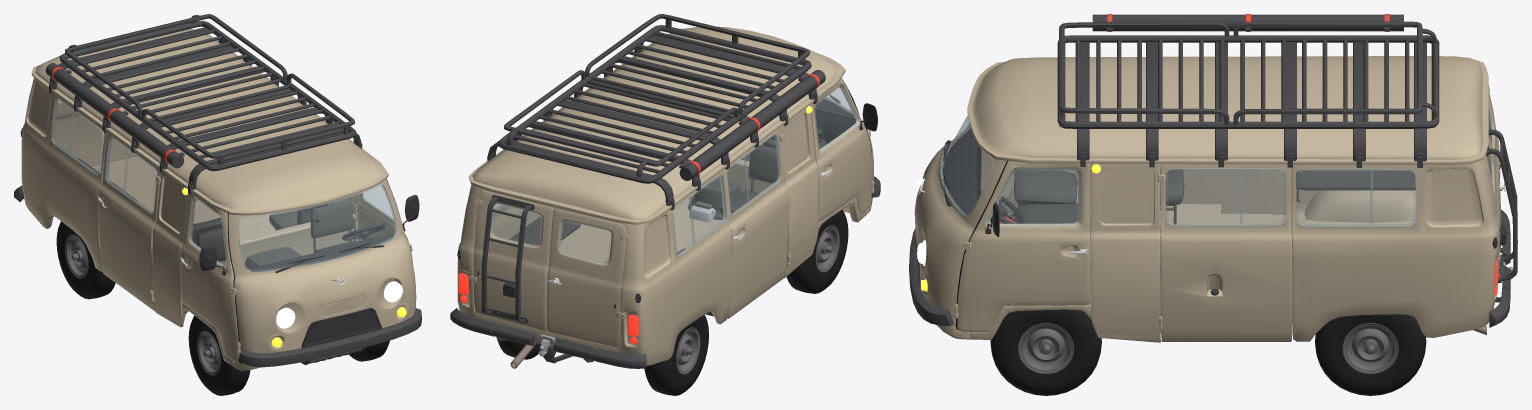
Rendered from garilla-rig-uaz452.glb.
The picture shows the model from 3 angles, left to right: view 1: azimuth 30°, elevation 25°; view 2: azimuth 150°, elevation 25°; view 3: azimuth 270°, elevation 25°; orthographic projection. The views are drawn at different scales.
Visible parts, largest first — view 1: body__shell, gear__roof_rack, body__door_side, body__door_fr, body__interior, armor__bumper_front, wheel__fr, body__tailgate, wheel__rr, body__door_fl, body__hood, wheel__fl; view 2: body__shell, gear__roof_rack, body__tailgate, body__door_side, body__door_fr, body__interior, armor__bumper_rear, wheel__rr, wheel__fr, body__hood, wheel__rl, drive__gearbox; view 3: body__shell, gear__roof_rack, body__door_fl, body__interior, wheel__fl, wheel__rl, body__door_side, body__tailgate, armor__bumper_front, body__hood, armor__bumper_rear, body__door_fr.
Boxes of the visible parts, x1,y1,x2,y2 form: body__shell: (20,29,416,370); gear__roof_rack: (45,14,362,193); body__door_side: (97,132,160,311); body__door_fr: (180,193,240,363); body__interior: (77,158,395,271); armor__bumper_front: (238,308,421,367); wheel__fr: (188,315,250,395); body__tailgate: (54,100,136,166); wheel__rr: (56,221,115,299); body__door_fl: (357,178,419,251); body__hood: (244,247,301,268); wheel__fl: (349,340,389,361); body__shell: (457,26,873,365); gear__roof_rack: (487,14,825,210); body__tailgate: (468,190,629,348); body__door_side: (721,128,791,318); body__door_fr: (810,78,877,221); body__interior: (509,99,855,255); armor__bumper_rear: (450,308,646,368); wheel__rr: (644,314,708,395); wheel__fr: (786,209,848,293); body__hood: (688,139,826,219); wheel__rl: (497,339,540,359); drive__gearbox: (689,201,716,222); body__shell: (914,56,1499,342); gear__roof_rack: (1057,14,1439,167); body__door_fl: (954,161,1090,332); body__interior: (940,128,1415,276); wheel__fl: (990,309,1101,395); wheel__rl: (1315,314,1426,395); body__door_side: (1180,168,1286,213); body__tailgate: (1484,85,1517,283); armor__bumper_front: (909,228,953,325); body__hood: (991,204,1090,240); armor__bumper_rear: (1489,209,1513,327); body__door_fr: (981,149,1077,204).
Size of the model in its own units: 2.21 by 2.23 by 4.31.
